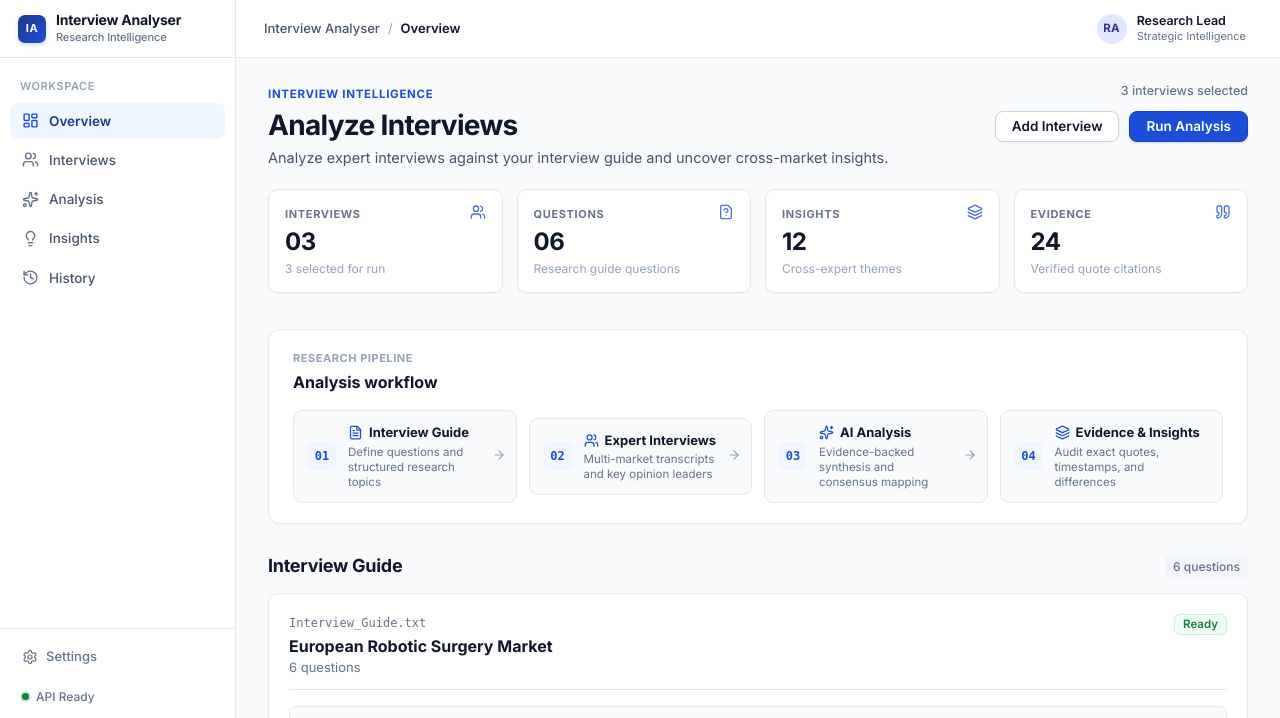
Scenario: Interview Analyzer › renders expert answers from the response
The image size is (1280, 718).
What coordinates should you click on to do the following:
click the button "Run Analysis"
I would click on:
 (1189, 127)
Its box is [1130,111,1248,142].
(page scrolled)
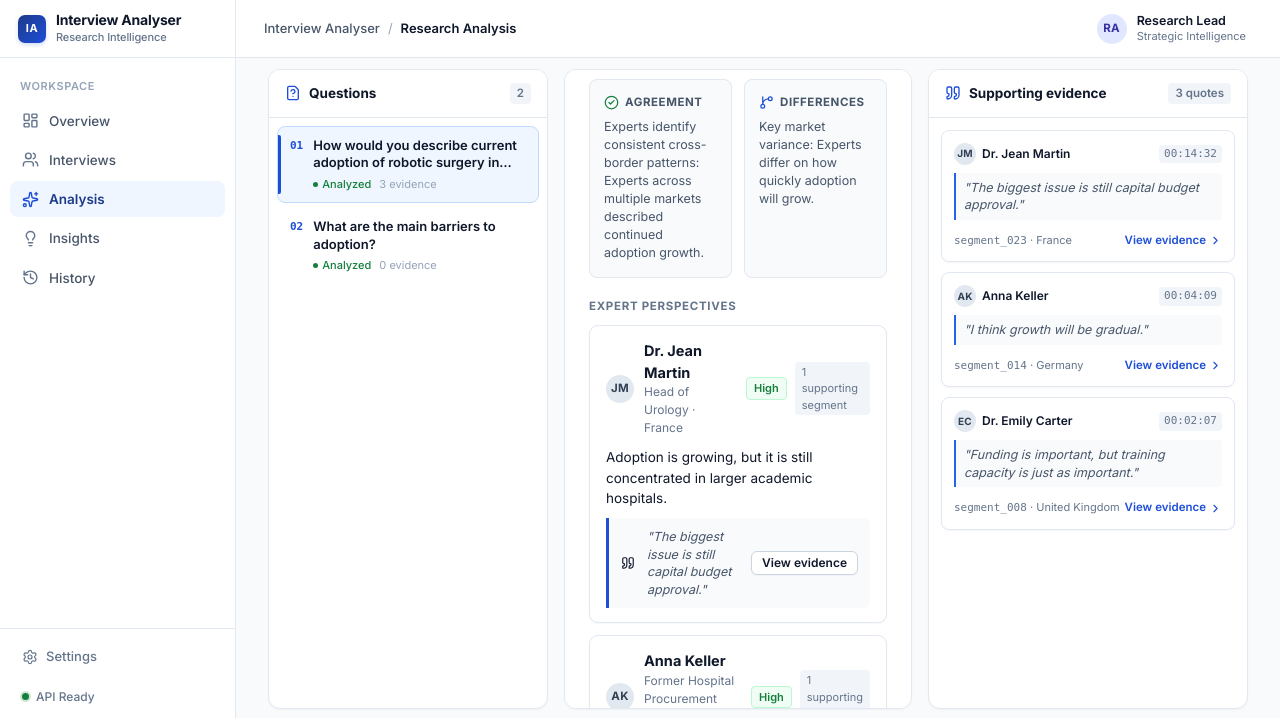
expect the text "Adoption is growing, but it is still concentrated in larger academic hospitals." is shown: met, box [606,449,812,506]
expect the text "high" next to "Head of Urology" is shown: met, box [754,381,779,395]
expect the text "1 supporting segment" in the row of "Head of Urology" is shown: met, box [802,365,858,412]
